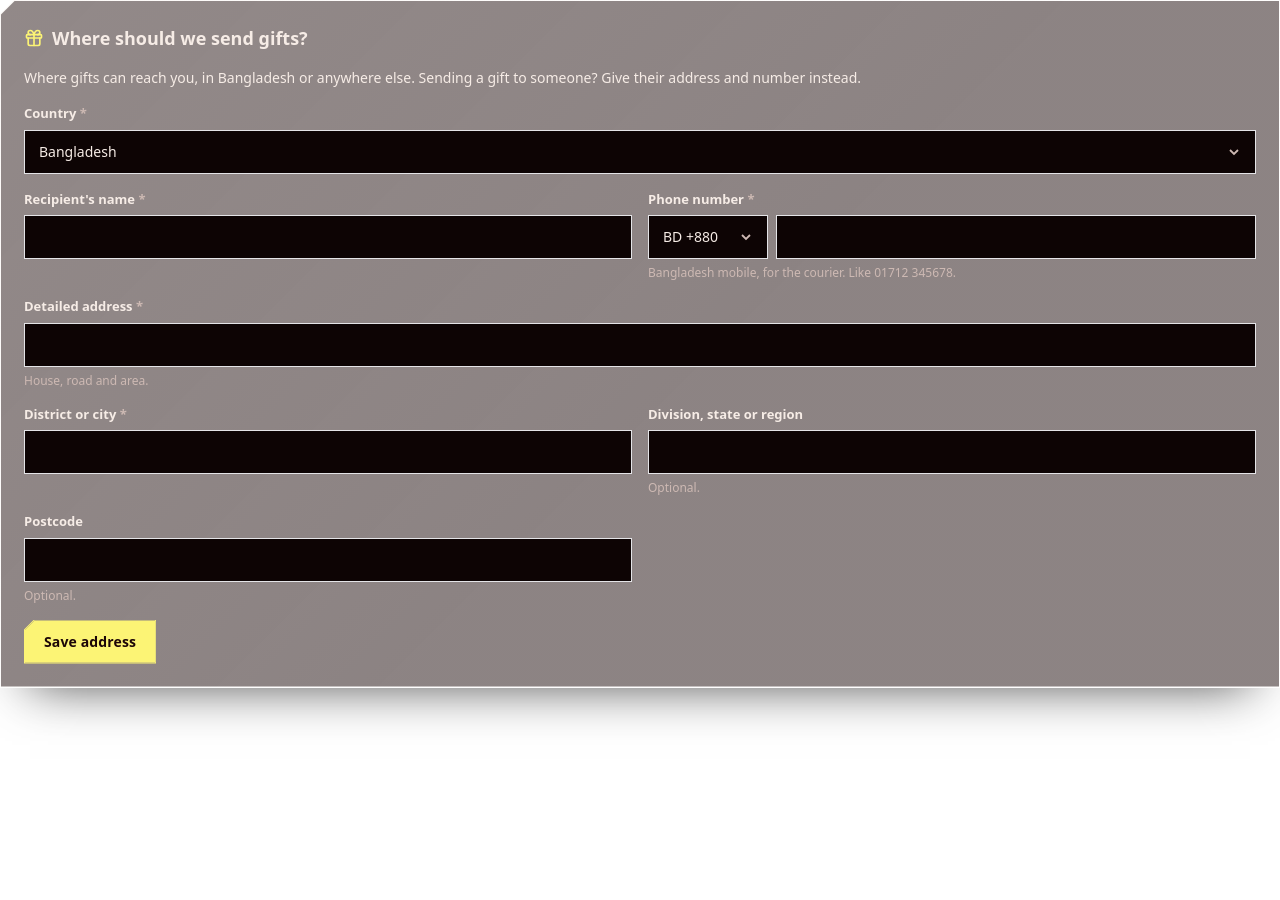
Test: DeliveryAddressStep › points at the field the server names in an error
Click the button "Save address" at coordinates (90, 642), box 24,620 -> 156,664
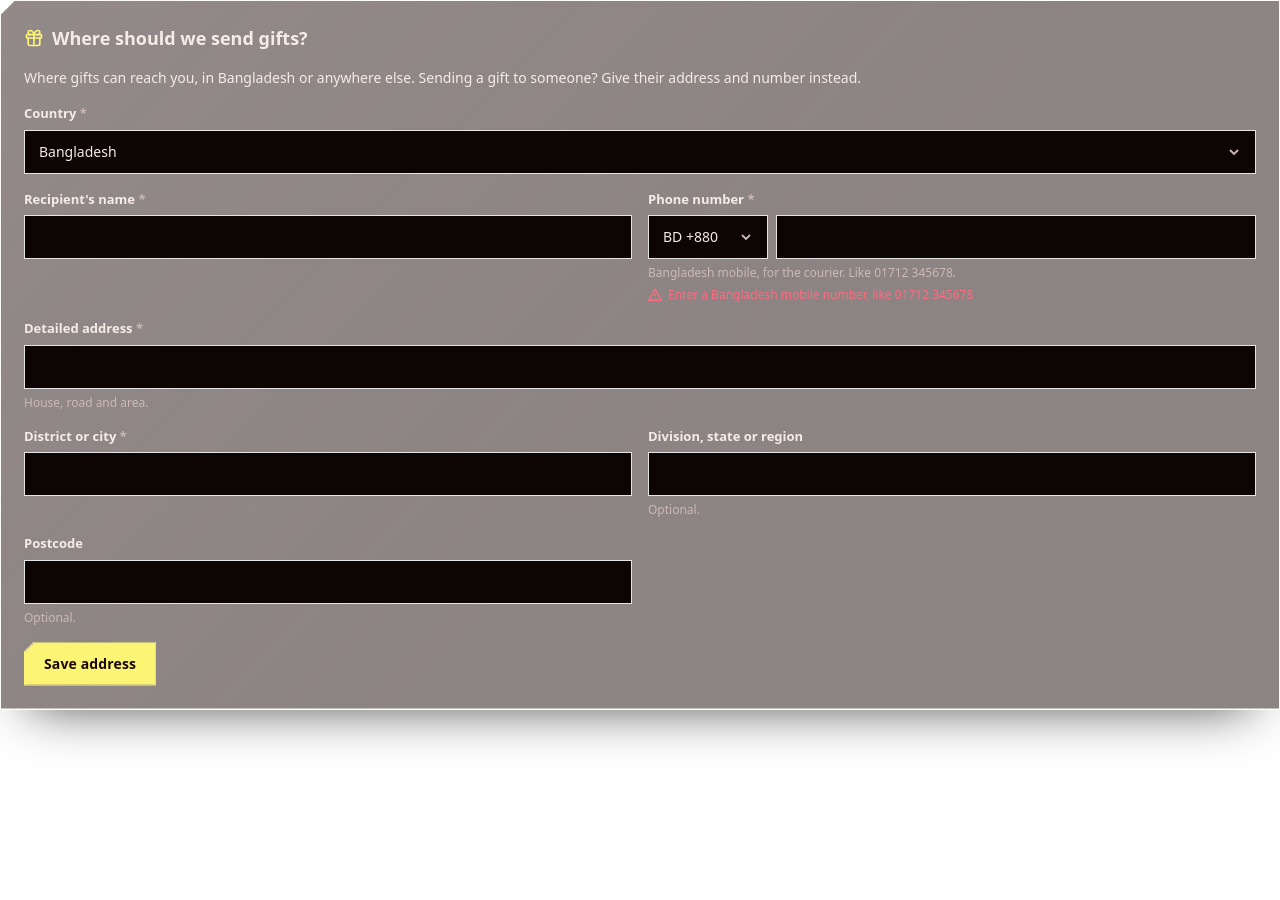
Check: the text "Enter a Bangladesh mobile number, like 01712 345678" is shown, box 648,286 -> 973,303
